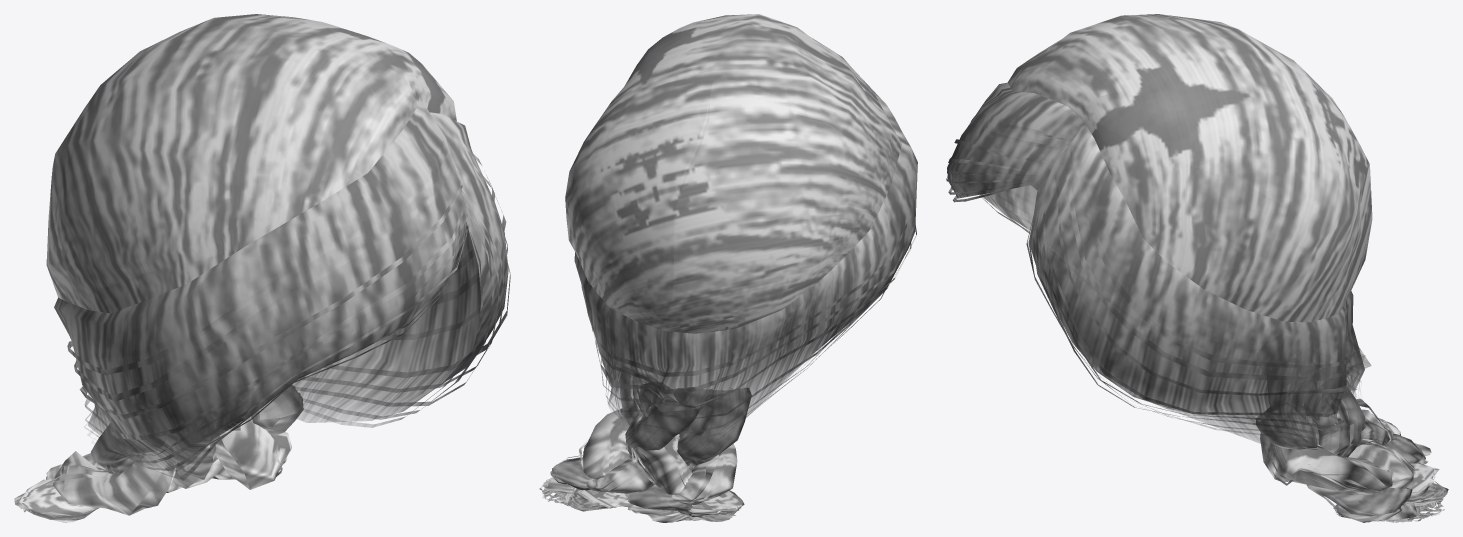
File: daz_hair_double_braid.glb
The picture shows the model from 3 angles, left to right: view 1: azimuth 30°, elevation 25°; view 2: azimuth 150°, elevation 25°; view 3: azimuth 270°, elevation 25°; orthographic projection. The views are drawn at different scales.
Visible parts, largest first — view 1: daz_hair_double_braid; view 2: daz_hair_double_braid; view 3: daz_hair_double_braid.
Boxes of the visible parts, x1=… form: daz_hair_double_braid: x1=14, y1=14, x2=510, y2=522; daz_hair_double_braid: x1=539, y1=14, x2=917, y2=522; daz_hair_double_braid: x1=946, y1=14, x2=1448, y2=522.
Bounding box in the file's own units: 0.1823 × 0.2497 × 0.2534.
Materials: 1 (1 with a texture image).
